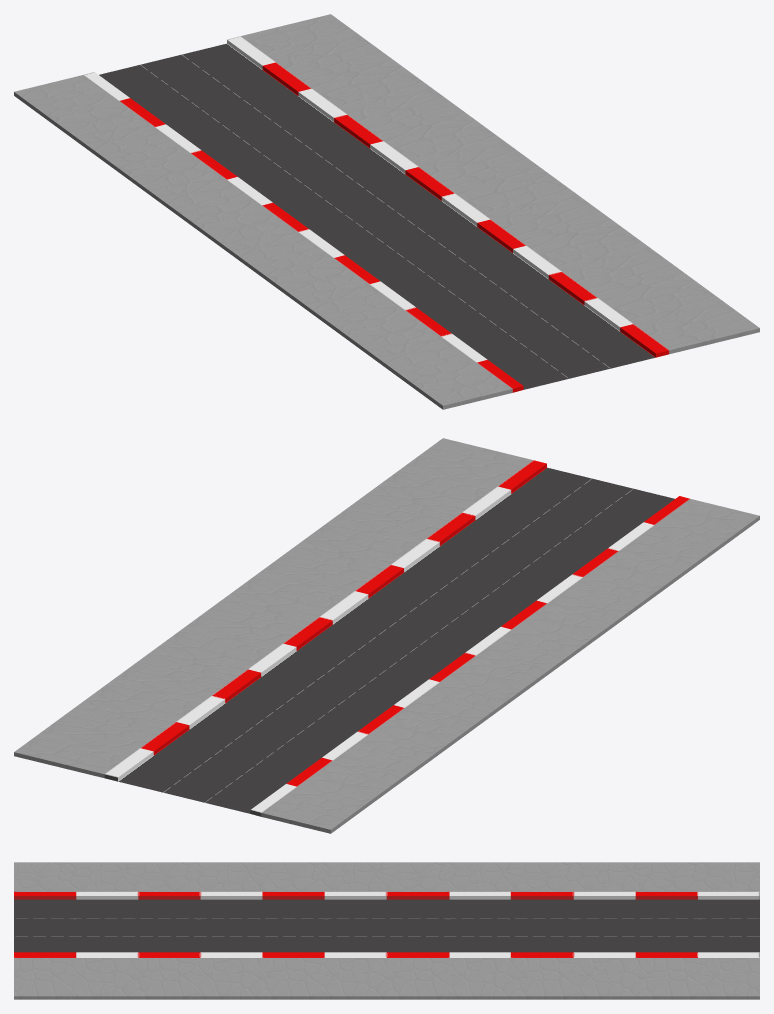
Rendered from ENVIR.FBX.
3 views of the same model, one above another, from view 1: azimuth 30°, elevation 25°; view 2: azimuth 150°, elevation 25°; view 3: azimuth 270°, elevation 25° (orthographic). The views are drawn at different scales.
Visible parts, largest first — view 1: envir; view 2: envir; view 3: envir.
Part boxes in pixels (left/top/right/bottom): envir: left=14, top=14, right=759, bottom=409; envir: left=14, top=438, right=759, bottom=833; envir: left=14, top=862, right=759, bottom=999.
Size of the model in its own units: 15354 by 202 by 36000.
